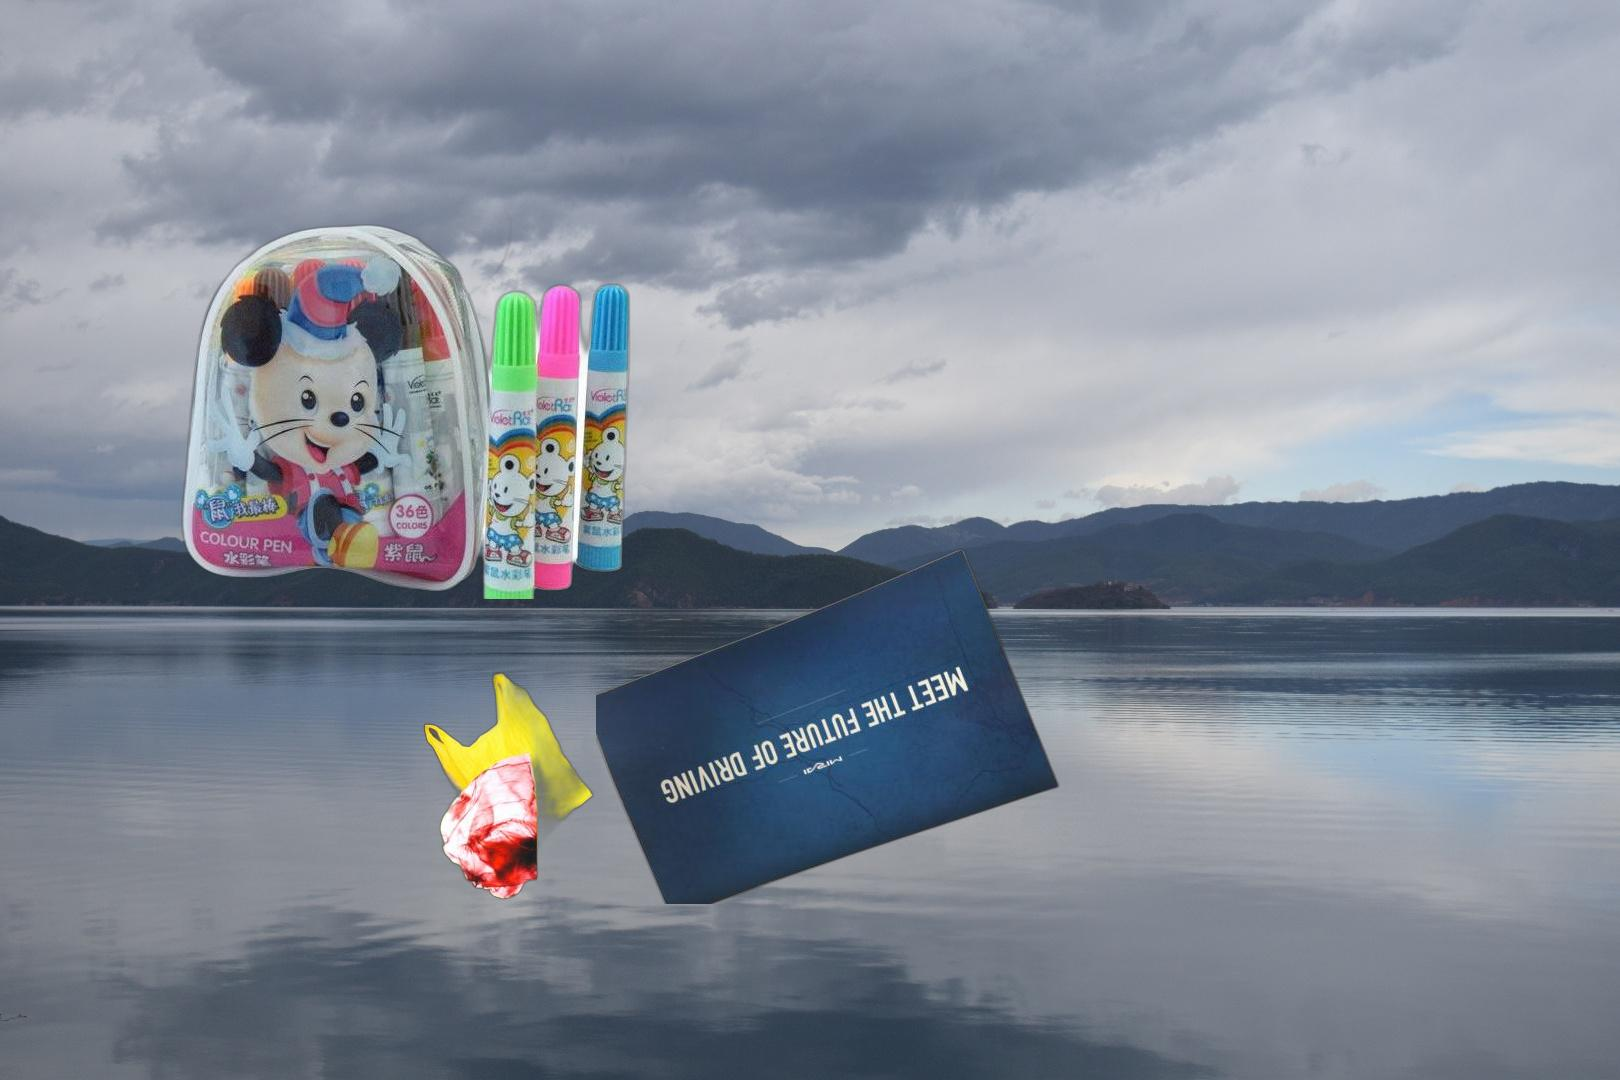paper: (595, 546, 1062, 904)
penholder: (178, 198, 635, 599)
plastic-bag: (421, 669, 605, 900)
